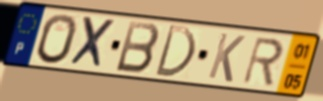B: (113, 19, 161, 76)
D: (152, 23, 197, 80)
K: (205, 31, 247, 85)
O: (35, 12, 79, 66)
R: (240, 35, 286, 88)
X: (67, 15, 118, 72)
